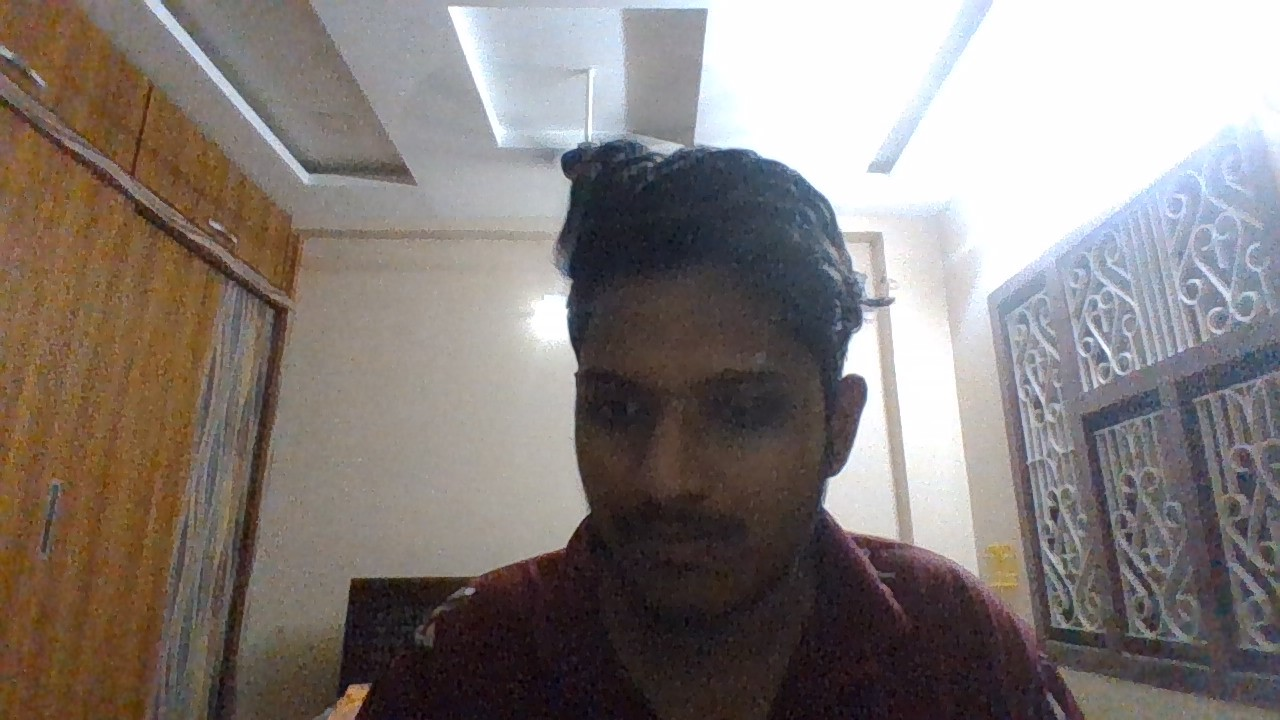person: (439, 44, 945, 720)
